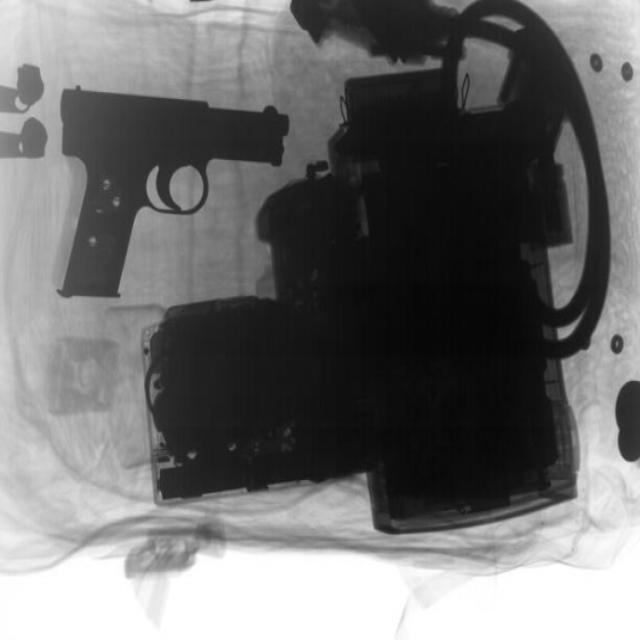GUN: (54, 77, 290, 305)
